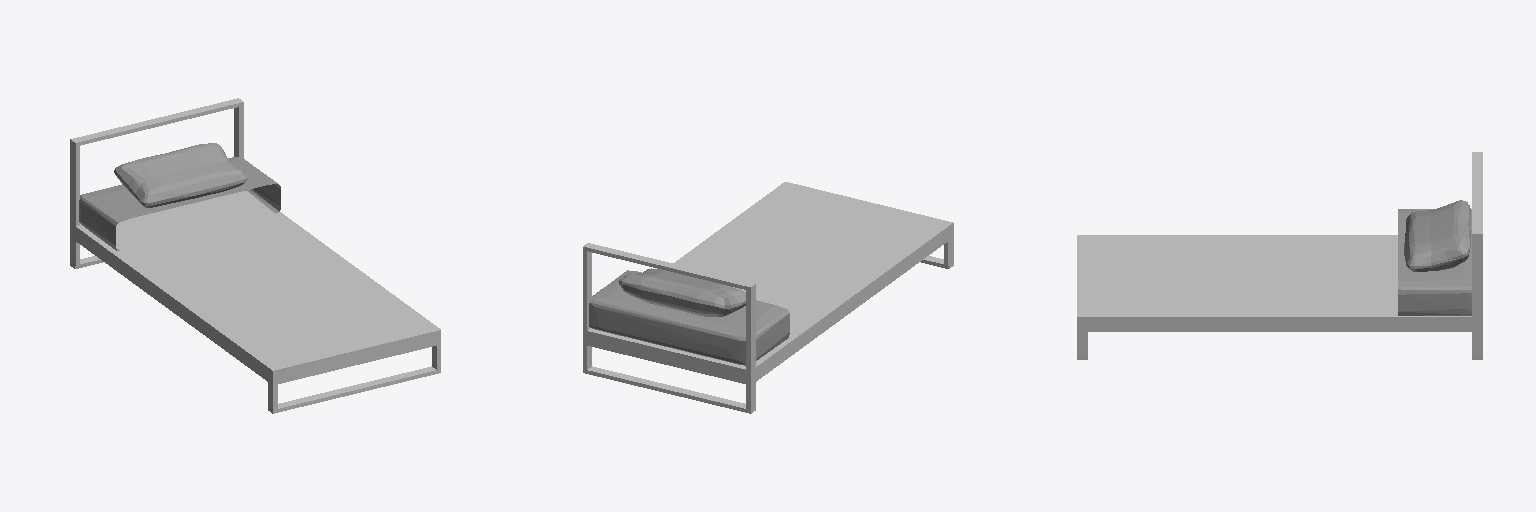
File: lozkoC1.obj
3 views of the same model, side by side, from view 1: azimuth 30°, elevation 25°; view 2: azimuth 150°, elevation 25°; view 3: azimuth 270°, elevation 25° (orthographic).
Parts seen in each view (by area): view 1: Bed_Single.001_Cube.001, Bed_Single_Cube.044; view 2: Bed_Single.001_Cube.001, Bed_Single_Cube.044; view 3: Bed_Single.001_Cube.001, Bed_Single_Cube.044.
Part boxes in pixels (bbox=[...]): Bed_Single.001_Cube.001: bbox=[70, 98, 440, 413]; Bed_Single_Cube.044: bbox=[79, 143, 280, 250]; Bed_Single.001_Cube.001: bbox=[583, 182, 953, 413]; Bed_Single_Cube.044: bbox=[589, 268, 789, 365]; Bed_Single.001_Cube.001: bbox=[1077, 152, 1482, 359]; Bed_Single_Cube.044: bbox=[1398, 200, 1471, 315].
Bounding box in the file's own units: 1.9 × 1.35 × 3.94.